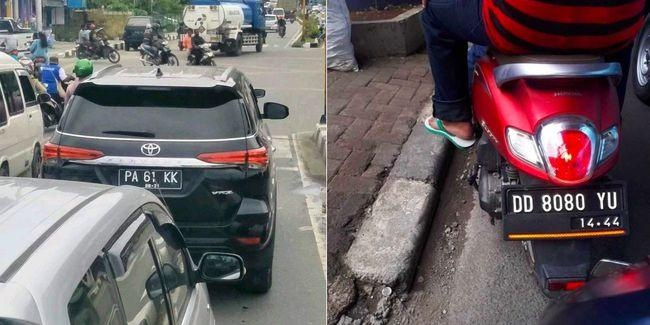plate: (503, 186, 628, 237), (120, 170, 181, 189)
